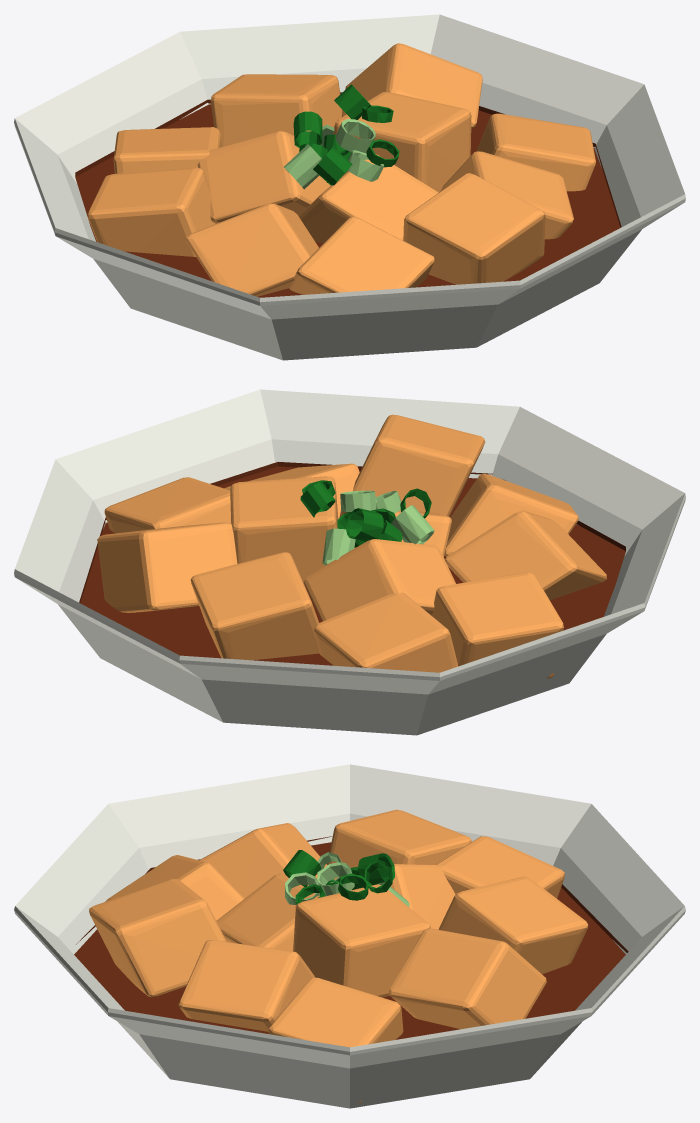
The model's file is 麻婆豆腐.fbx.
3 renders of one model, top to bottom at view 1: azimuth 30°, elevation 25°; view 2: azimuth 150°, elevation 25°; view 3: azimuth 270°, elevation 25°, orthographic.
Visible parts, largest first — view 1: 立方体, 平面, 円, 円柱; view 2: 平面, 立方体, 円, 円柱; view 3: 立方体, 平面, 円, 円柱.
Boxes of the visible parts, x1,y1,x2,y2 form: 立方体: (87,43,595,296); 平面: (14,14,685,360); 円: (75,92,621,297); 円柱: (284,84,399,189); 平面: (14,389,685,735); 立方体: (97,414,606,678); 円: (79,462,625,666); 円柱: (300,480,434,565); 立方体: (89,809,588,1102); 平面: (14,764,685,1108); 円: (74,836,628,1039); 円柱: (283,850,409,906).
Size of the model in its own units: 349 by 87.06 by 349.
